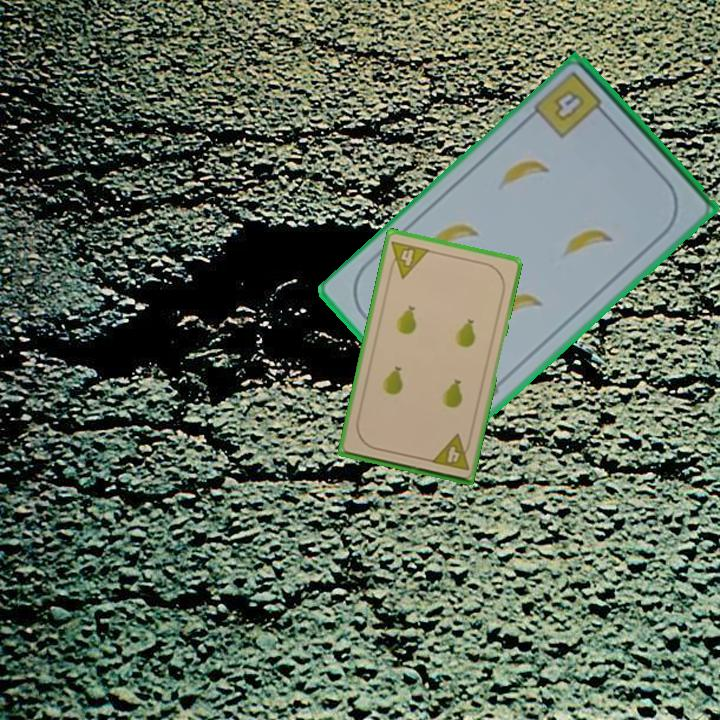4b: (533, 68, 612, 142)
4p: (385, 237, 432, 281), (427, 431, 474, 473)
